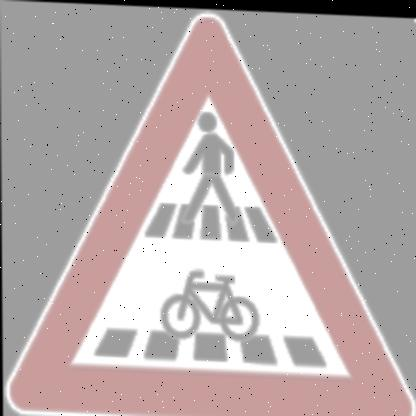Pedestrian Crossing: (51, 18, 382, 253)
